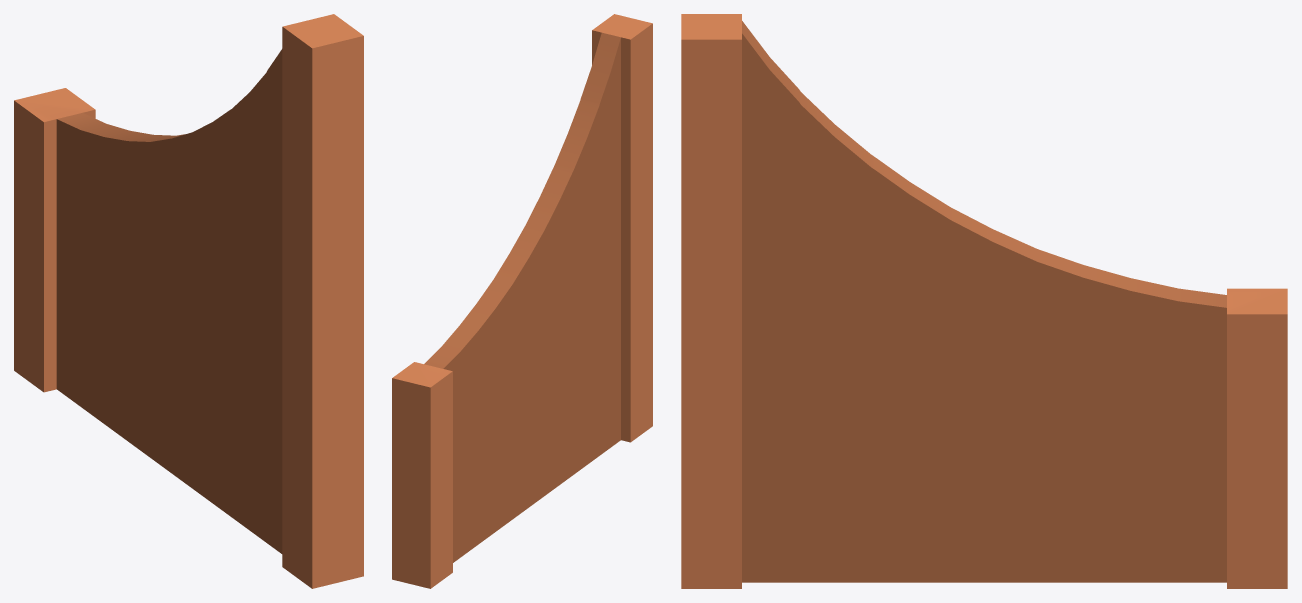
File: wallWoodSlope.obj
3 views of the same model, side by side, from view 1: azimuth 30°, elevation 25°; view 2: azimuth 150°, elevation 25°; view 3: azimuth 270°, elevation 25° (orthographic). The views are drawn at different scales.
Parts seen in each view (by area): view 1: wallWoodSlope; view 2: wallWoodSlope; view 3: wallWoodSlope.
Part boxes in pixels (x1=…): wallWoodSlope: x1=14, y1=14, x2=363, y2=588; wallWoodSlope: x1=392, y1=14, x2=652, y2=588; wallWoodSlope: x1=681, y1=14, x2=1287, y2=588.
Bounding box in the file's own units: 0.1 × 1 × 1.
